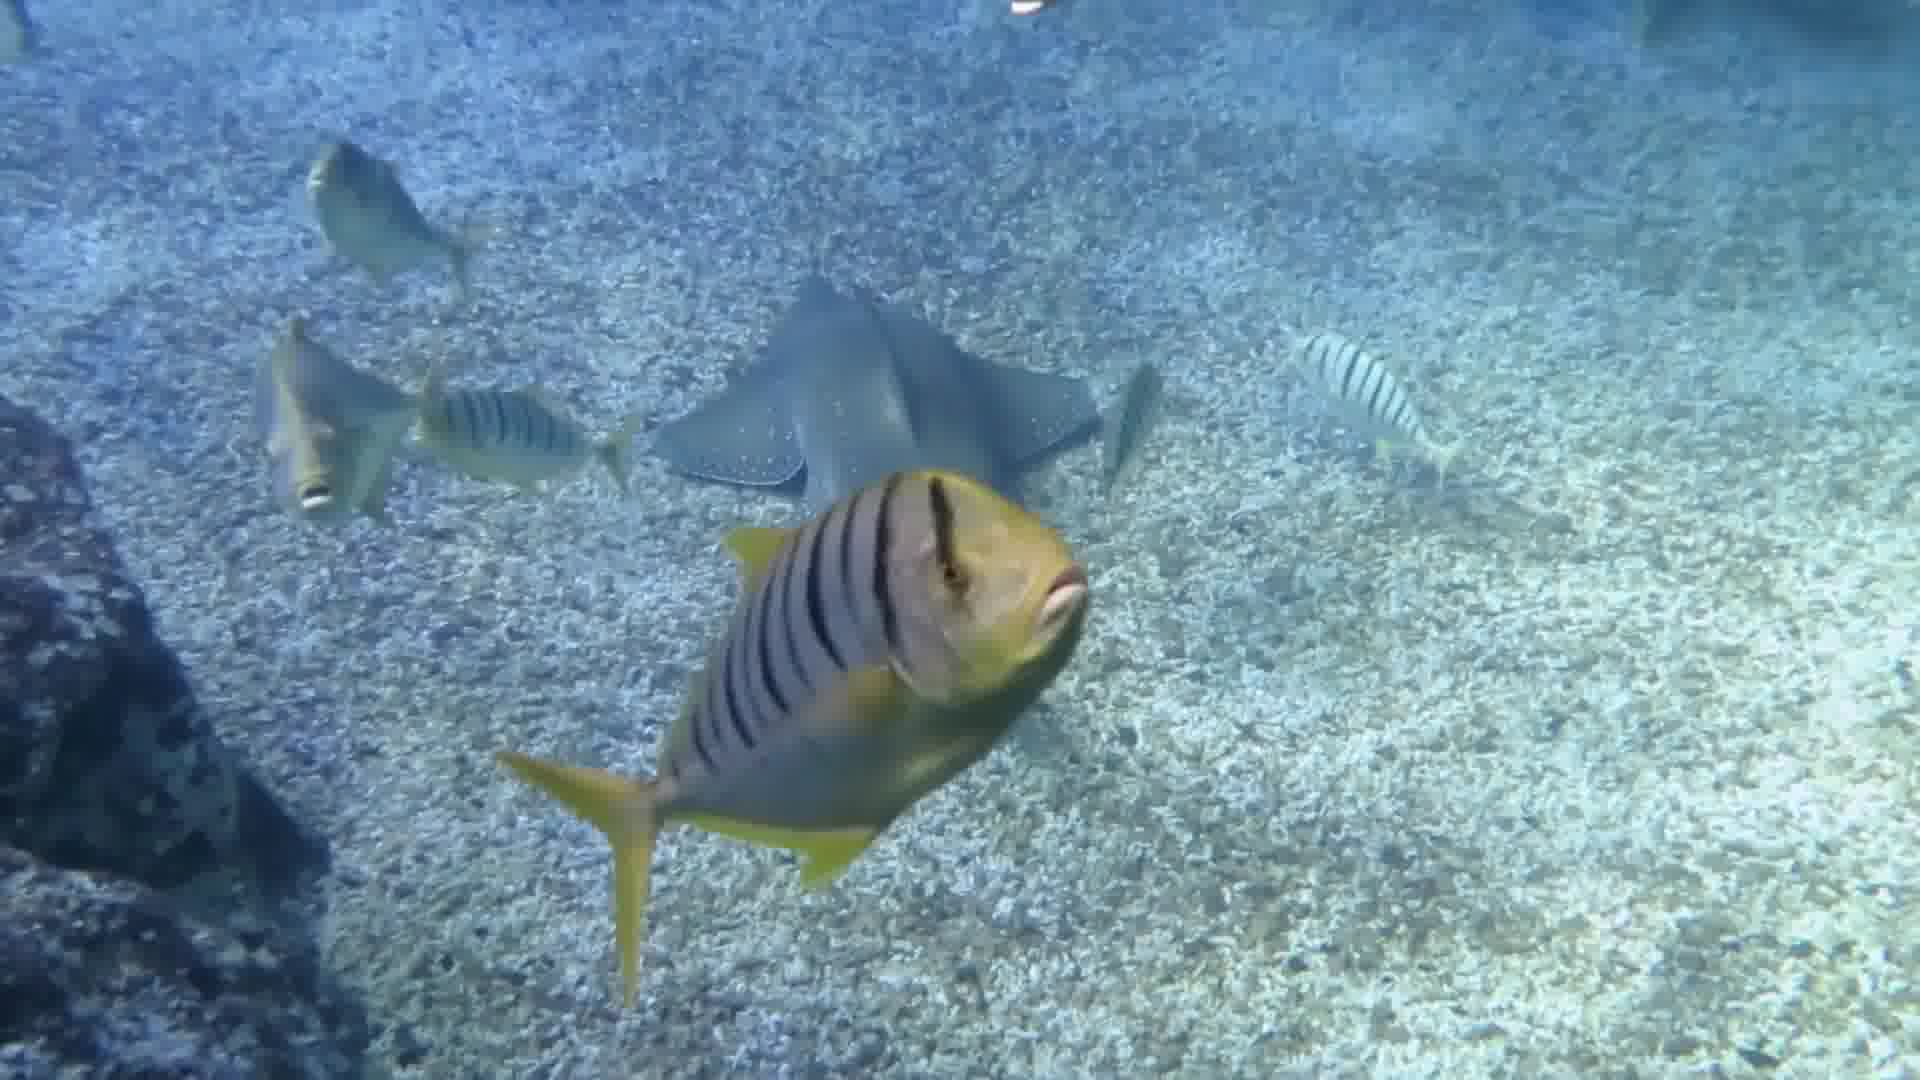Rhychobatus djiddensis: (650, 231, 1131, 483)
